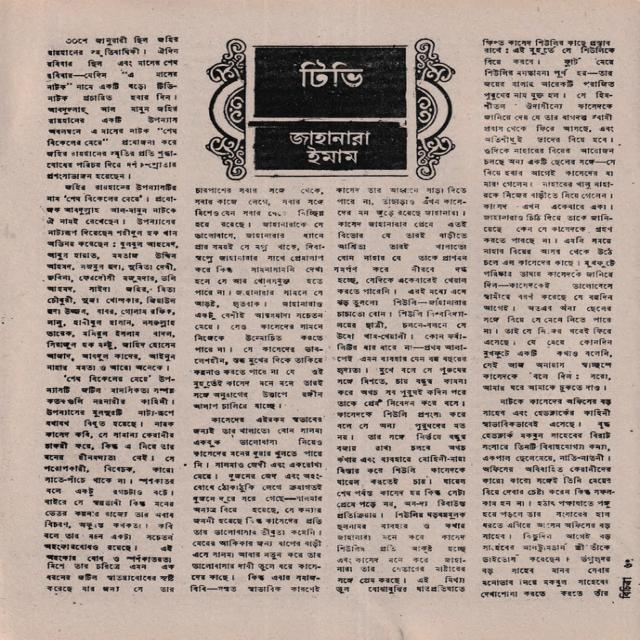image: (208, 39, 454, 179)
page number: (623, 558, 633, 569)
paragraph: (331, 182, 473, 597), (478, 37, 619, 395), (188, 184, 330, 413), (41, 373, 179, 595), (477, 397, 615, 600), (42, 182, 182, 373), (185, 414, 326, 598), (39, 33, 183, 183)
text: (289, 131, 370, 164), (619, 576, 632, 599)
title: (299, 60, 363, 88)
